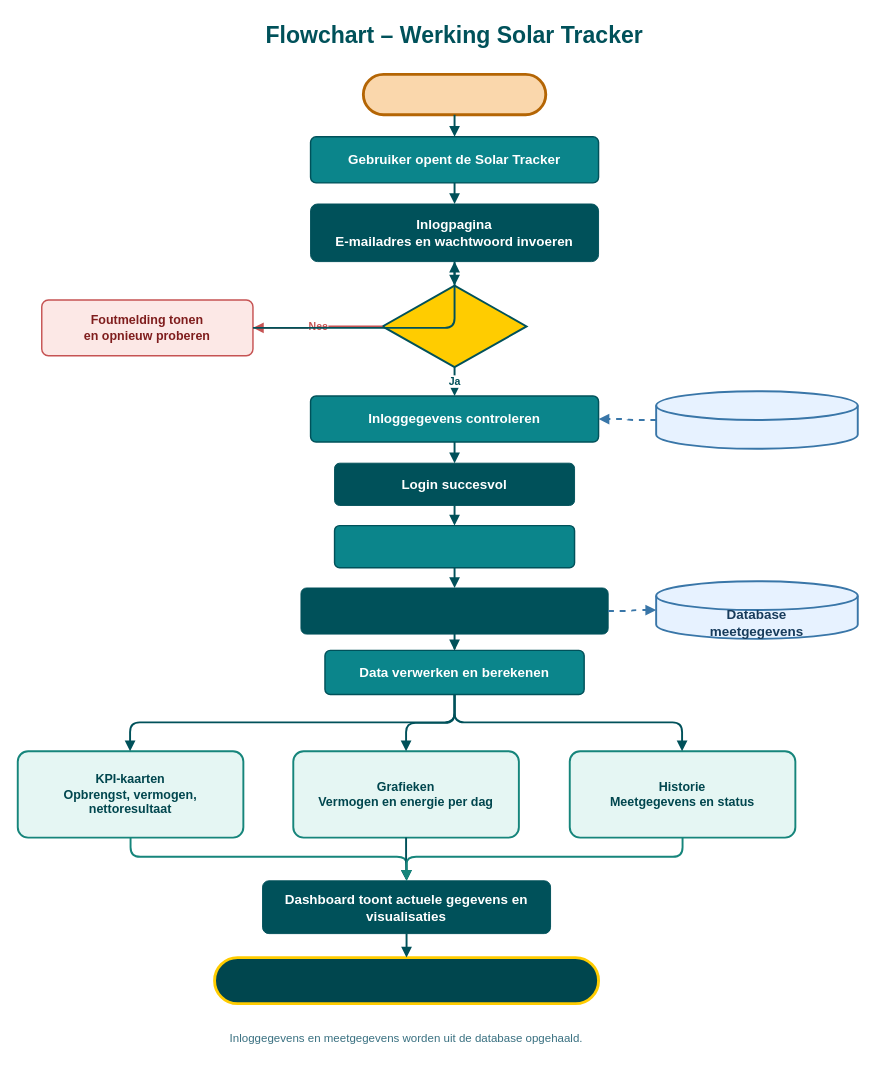
The diagram is 875 pixels wide and 1068 high, and some of its shapes have lost their labels. The shapes that lost their labels are listed below. From the top down, each one's box as (x1, y1, x2, y2) in pixels, then its label:
(361, 72, 547, 116): Start
(381, 284, 527, 368): Inloggegevens geldig?
(655, 390, 858, 449): Database gebruikersaccounts
(333, 524, 575, 568): Dashboard openen
(300, 587, 608, 634): Meetgegevens opvragen uit database
(213, 956, 600, 1005): Einde – gebruiker bekijkt de zonnepaneelprestaties
